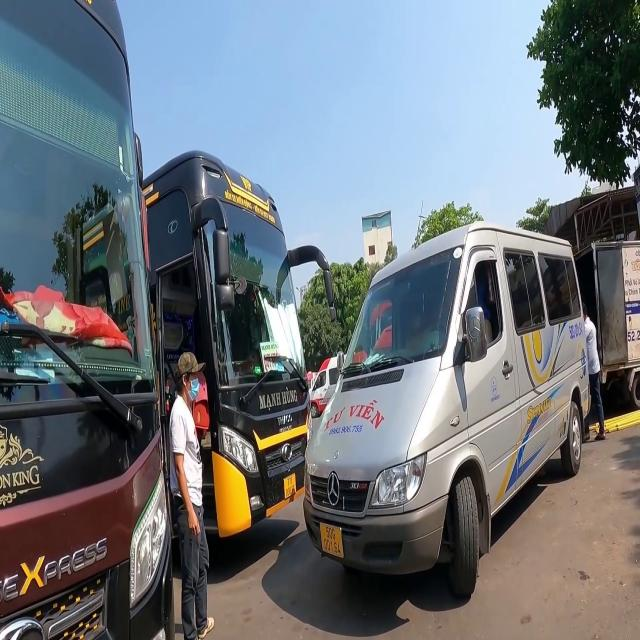bien_vang: (283, 472, 298, 497)
